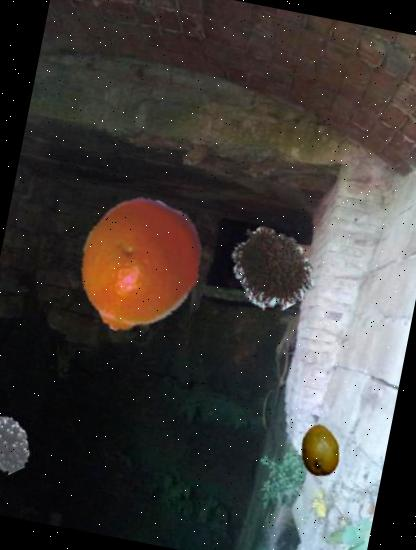Mulberry: (0, 409, 41, 477)
Papaya: (289, 419, 351, 481)
Rambutan: (219, 214, 324, 318)
Tangelo: (60, 186, 222, 348)
